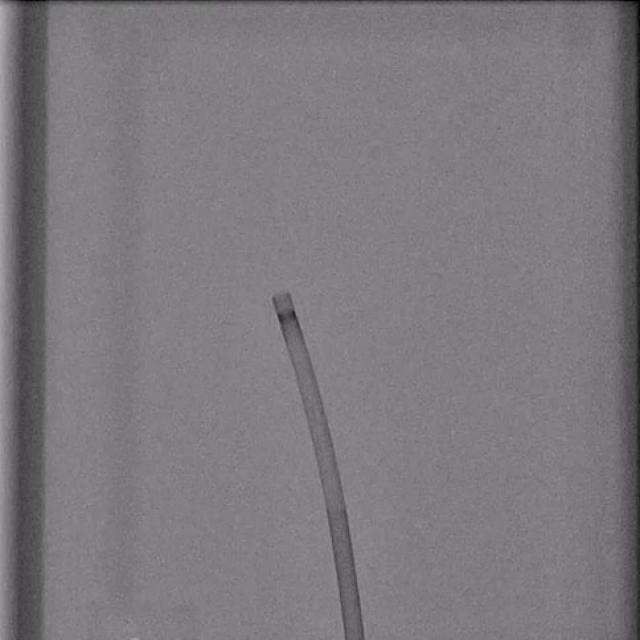bend: (325, 494, 346, 508)
entry: (346, 636, 364, 640)
marker: (276, 309, 299, 325)
tip: (272, 292, 291, 296)
